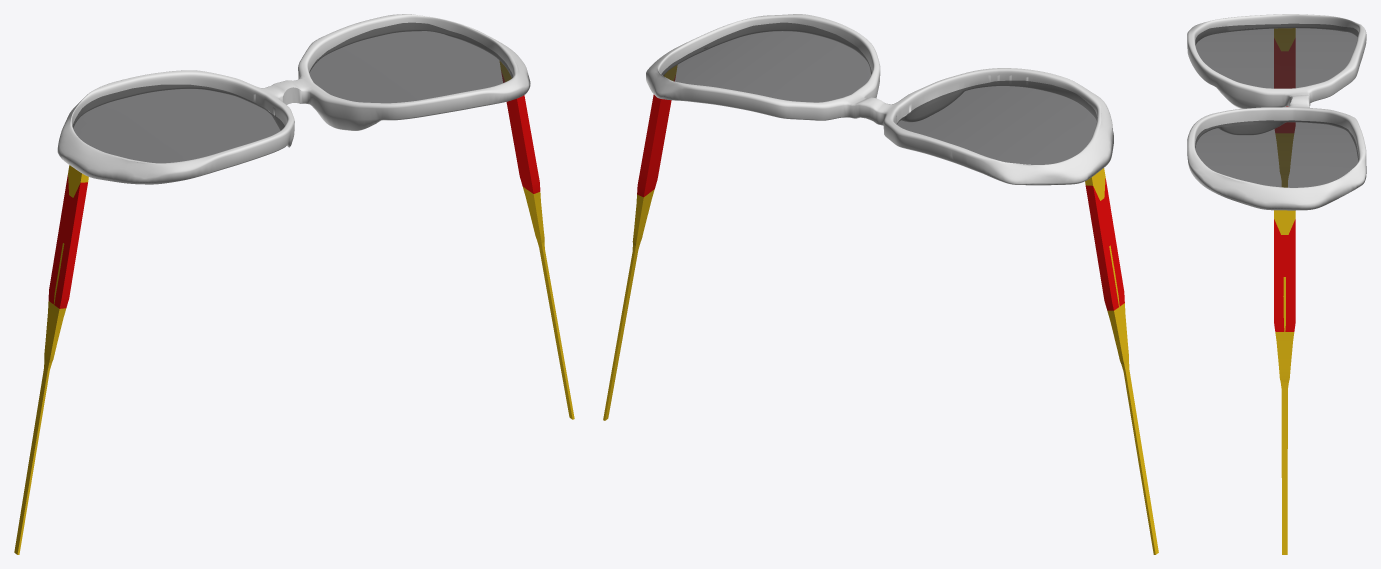
File: mojing.FBX
The picture shows the model from 3 angles, left to right: view 1: azimuth 30°, elevation 25°; view 2: azimuth 150°, elevation 25°; view 3: azimuth 270°, elevation 25°; orthographic projection. The views are drawn at different scales.
Parts seen in each view (by area): view 1: Tube002, Plane001, Plane002, Box006, Box007, Box010, Box013; view 2: Tube002, Plane001, Plane002, Box006, Box007, Box010, Box013; view 3: Tube002, Plane002, Plane001, Box013, Box010, Box006, Box007, Box012, Box011.
Part boxes in pixels (box(x1,y1,x2,y2)): Tube002: box(57, 14, 530, 184); Plane001: box(72, 84, 284, 163); Plane002: box(309, 22, 512, 103); Box006: box(54, 165, 88, 268); Box007: box(44, 260, 73, 362); Box010: box(515, 149, 544, 242); Box013: box(500, 61, 534, 157); Tube002: box(646, 14, 1113, 185); Plane001: box(896, 80, 1096, 164); Plane002: box(661, 22, 871, 102); Box006: box(1085, 168, 1119, 271); Box007: box(1099, 262, 1128, 364); Box010: box(632, 152, 662, 245); Box013: box(642, 65, 677, 160); Tube002: box(1187, 14, 1366, 210); Plane002: box(1195, 120, 1358, 187); Plane001: box(1195, 23, 1358, 88); Box013: box(1274, 210, 1295, 295); Box010: box(1274, 296, 1295, 381); Box006: box(1274, 28, 1295, 88); Box007: box(1275, 106, 1295, 174); Box012: box(1280, 382, 1288, 468); Box011: box(1281, 468, 1287, 554).
Size of the model in its own units: 180 by 125 by 58.12.
